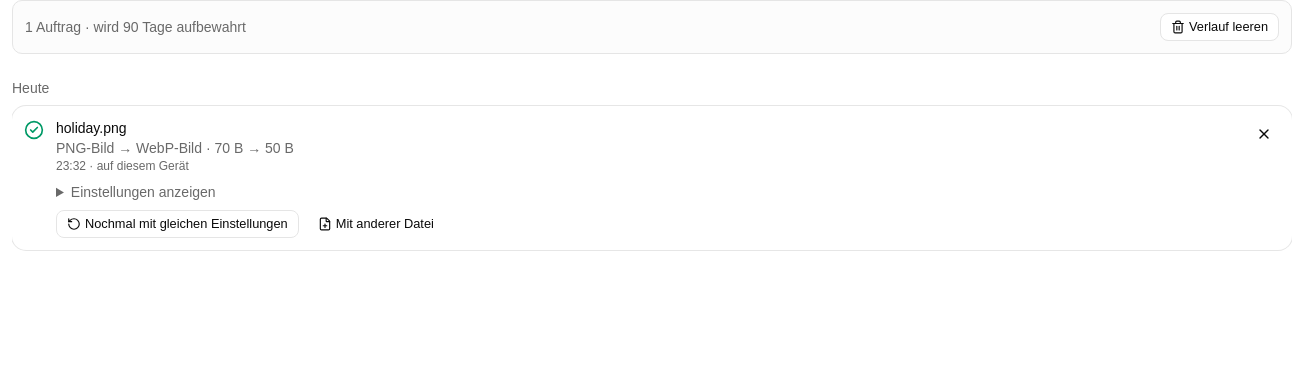
Test: JobLogView › shows each job with its settings in plain words
The image size is (1292, 368).
Expected: the text "holiday.png" is shown, [56, 120, 127, 136]
Click the heading "Einstellungen anzeigen". click: coordinates (143, 192)
box: [71, 184, 216, 200]
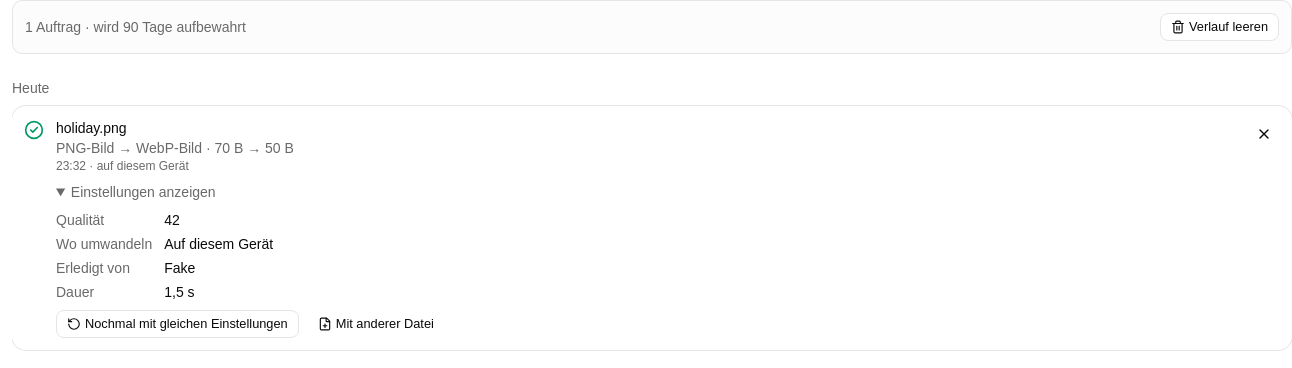
Now the text "42" is shown, box [164, 212, 180, 228]
Now the text "Auf diesem Gerät" is shown, box [164, 236, 273, 252]
Now the text "Fake" is shown, box [164, 260, 195, 276]
